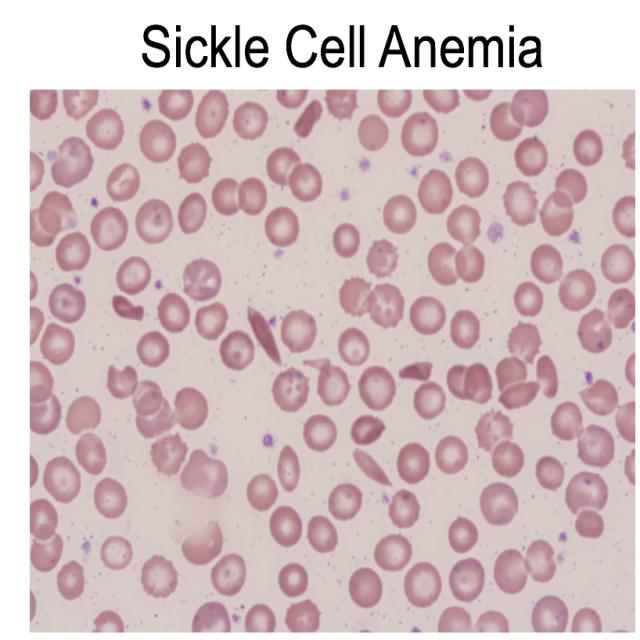RBC: (361, 358, 399, 414), (433, 437, 473, 482)
sickle cell: (245, 301, 291, 368), (345, 438, 399, 492)
